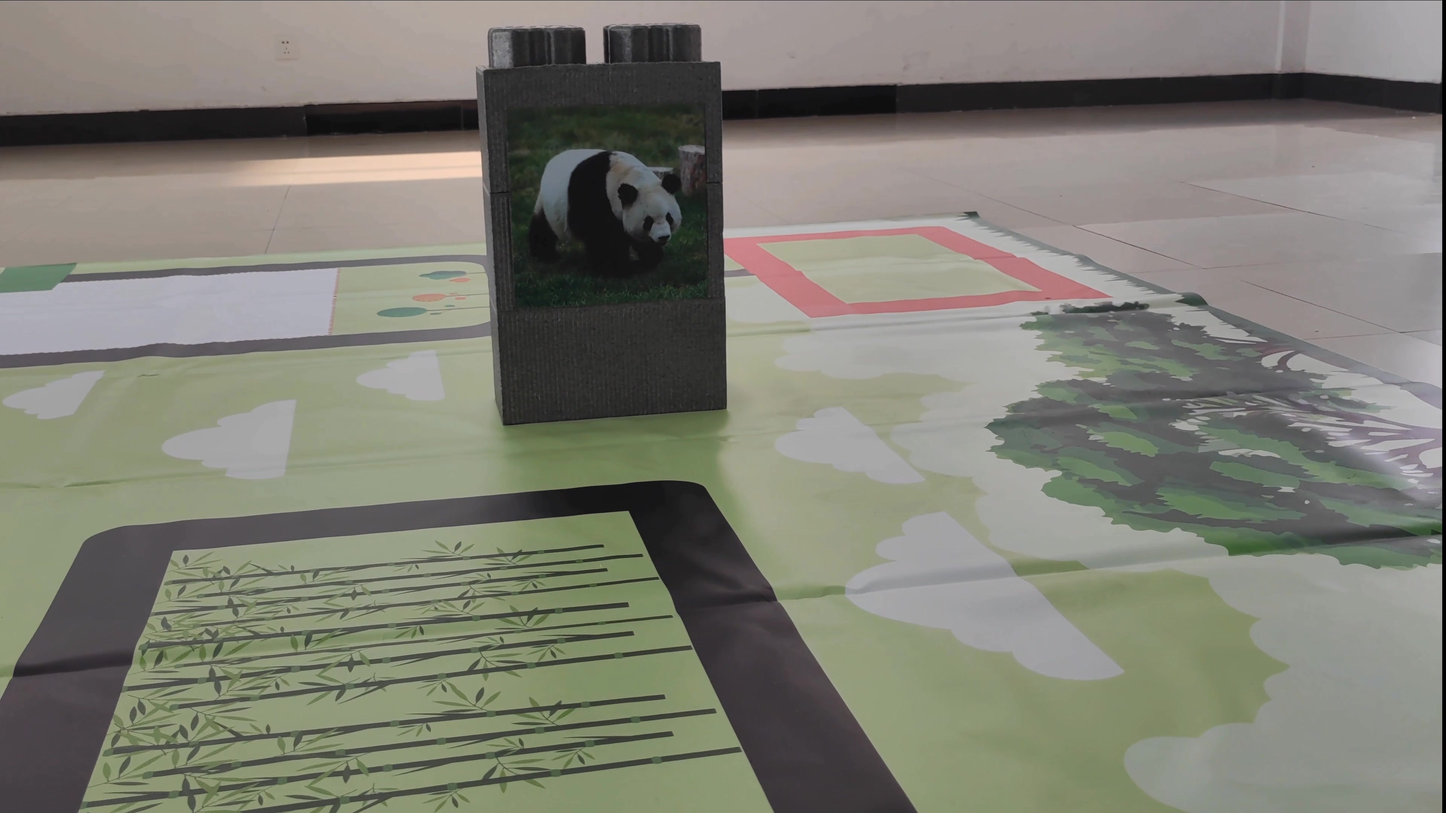panda: (520, 123, 717, 281)
